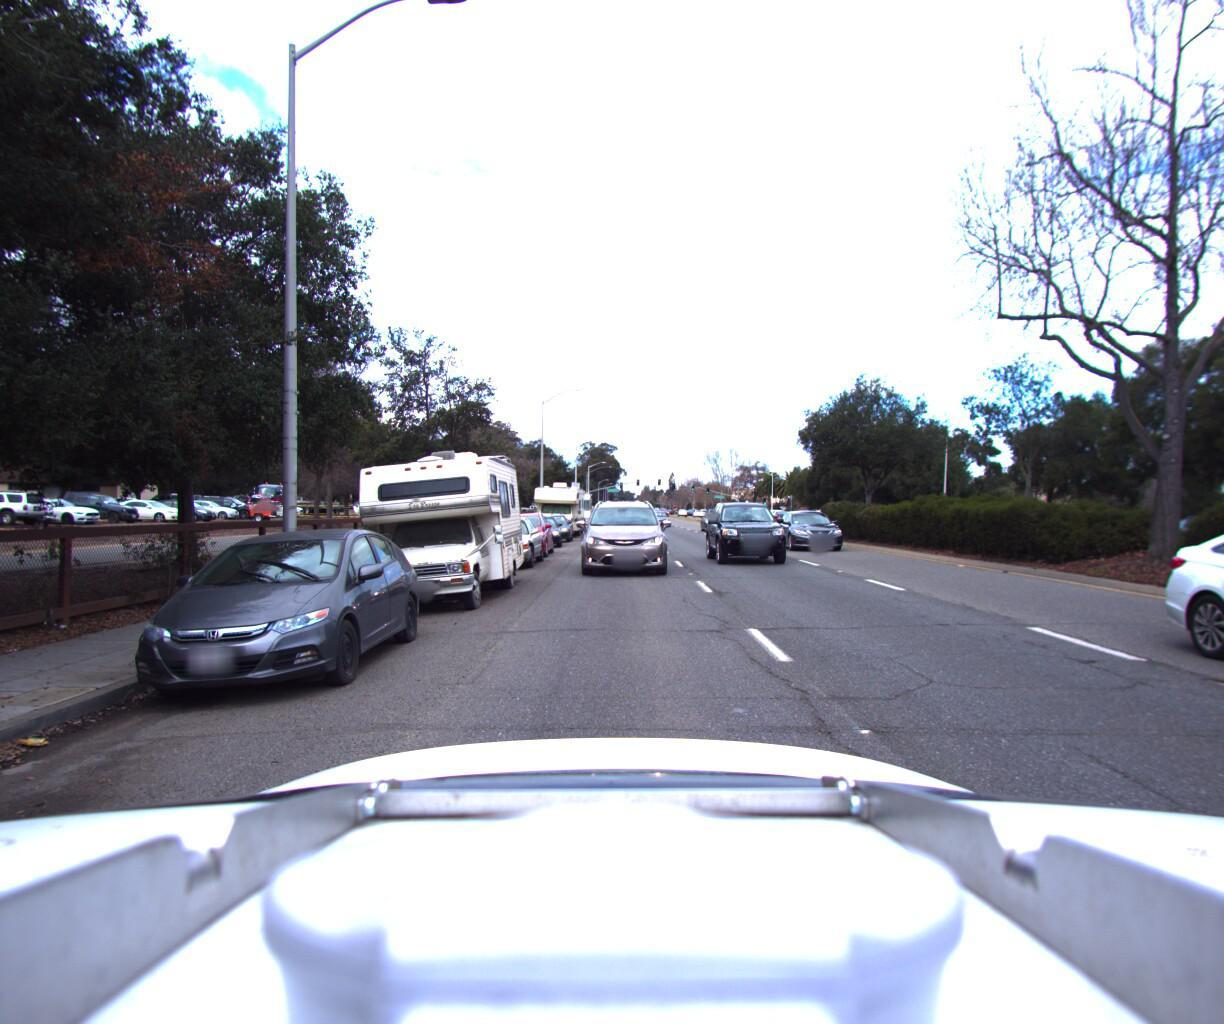car: (86, 515, 437, 711), (577, 491, 663, 578), (710, 493, 804, 566), (457, 509, 545, 571), (775, 510, 855, 556), (484, 506, 553, 557), (514, 509, 559, 548), (529, 506, 571, 542)
other_vehicle: (302, 412, 531, 622), (524, 475, 584, 537), (551, 482, 590, 530)
